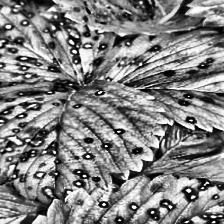Leaf Spot: (0, 79, 170, 203), (89, 28, 224, 132), (6, 172, 224, 224), (0, 0, 85, 93), (140, 124, 224, 198), (41, 7, 118, 84), (42, 0, 205, 36), (127, 0, 224, 48)
